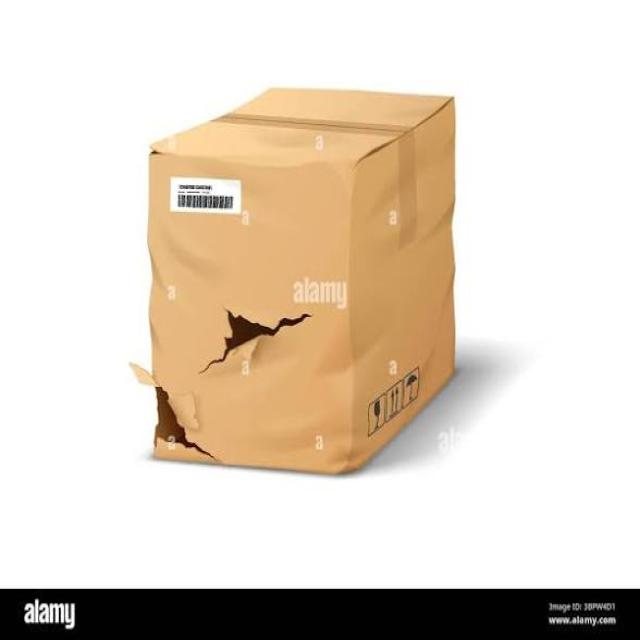carton_box: (126, 82, 496, 483)
fragile_label: (364, 392, 386, 436)
keep_dry_label: (402, 370, 427, 403)
package_damage: (180, 282, 319, 388), (128, 342, 225, 470)
this_side_up_label: (386, 378, 402, 418)
